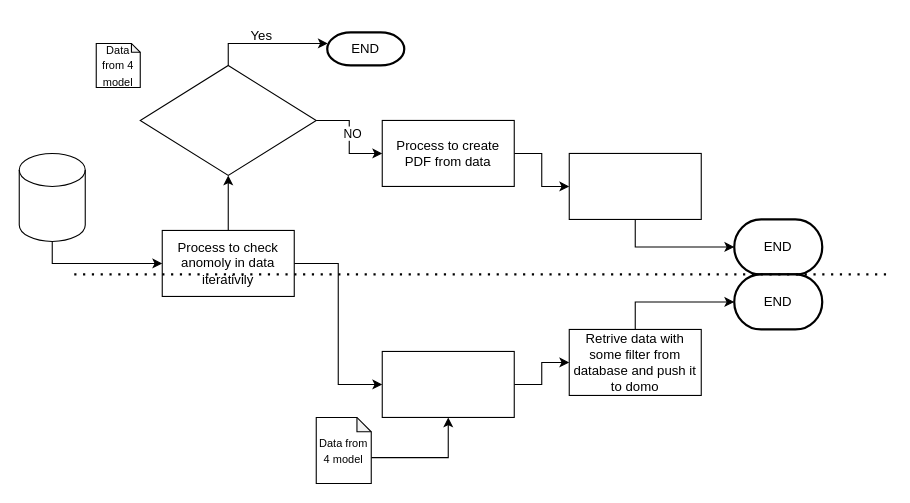
Some shapes in this 910 by 503 pixel diagram are drawn without their labels. Here are the shapes that lost their labels. From the top down, the centre of each, then its label:
point 227,119: check whather mail is already generated
point 51,196: DATA
point 634,185: To push this pdf to a box location and generate a email
point 447,383: Process to push data into database
